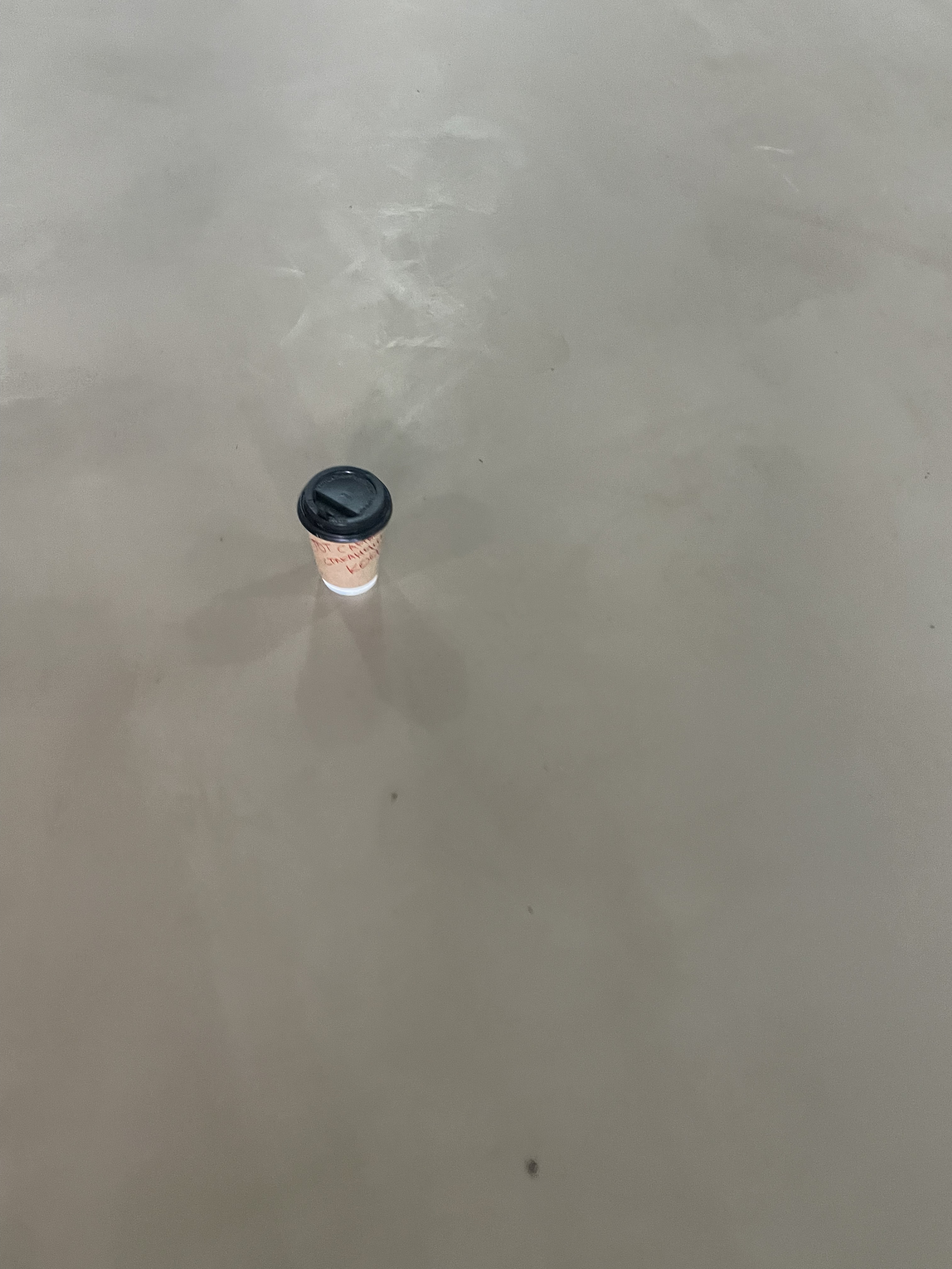cup: (296, 463, 393, 597)
